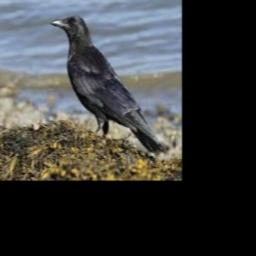Crow: (51, 15, 164, 154)
